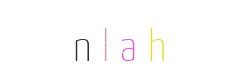A: (85, 0, 165, 80)
H: (117, 0, 197, 80)
L: (73, 0, 153, 80)
N: (42, 0, 122, 80)
